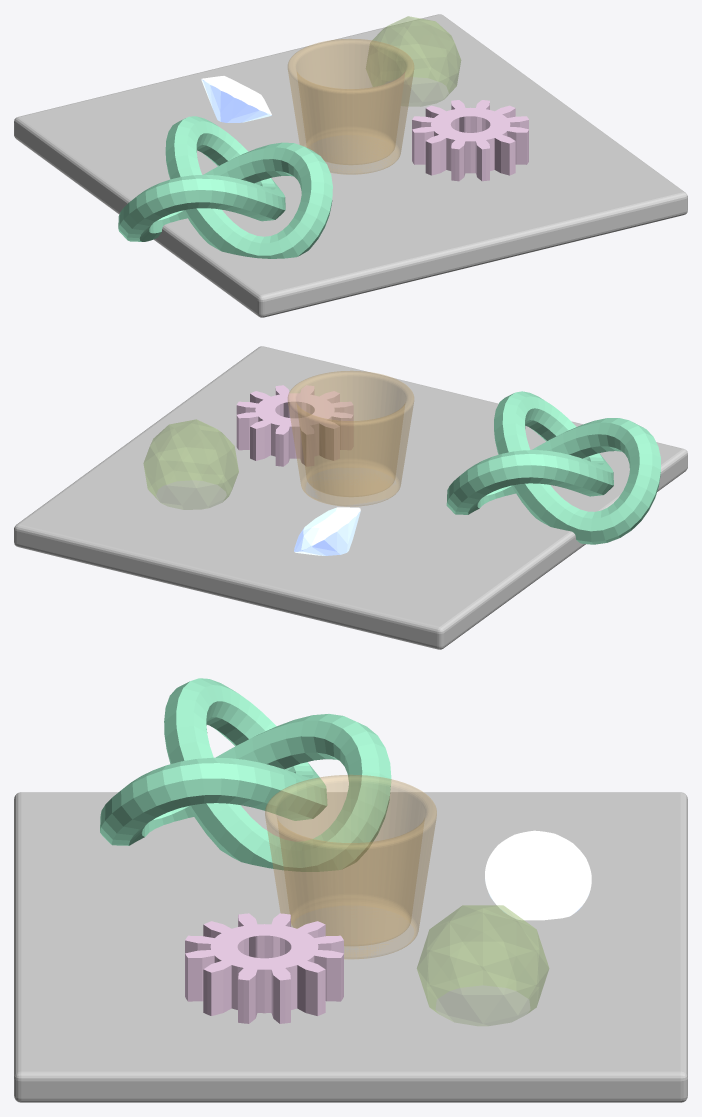
Rendered from cup.glb.
The picture shows the model from 3 angles, top to bottom: view 1: azimuth 30°, elevation 25°; view 2: azimuth 150°, elevation 25°; view 3: azimuth 270°, elevation 25°; orthographic projection. The views are drawn at different scales.
Visible parts, largest first — view 1: Plane, TorusKnot, Cylinder, Gear, Icosphere, dobj; view 2: Plane, TorusKnot, Cylinder, Gear, Icosphere, dobj; view 3: Plane, TorusKnot, Cylinder, Gear, Icosphere, dobj.
Boxes of the visible parts, left/top/right/bottom form: Plane: left=14, top=14, right=687, bottom=317; TorusKnot: left=118, top=116, right=332, bottom=258; Cylinder: left=288, top=39, right=413, bottom=174; Gear: left=412, top=100, right=528, bottom=181; Icosphere: left=366, top=16, right=460, bottom=106; dobj: left=201, top=76, right=271, bottom=122; Plane: left=14, top=346, right=687, bottom=649; TorusKnot: left=446, top=391, right=660, bottom=544; Cylinder: left=288, top=371, right=413, bottom=506; Gear: left=236, top=385, right=353, bottom=466; Icosphere: left=143, top=419, right=238, bottom=509; dobj: left=294, top=507, right=360, bottom=555; Plane: left=14, top=792, right=687, bottom=1102; TorusKnot: left=100, top=678, right=391, bottom=871; Cylinder: left=265, top=775, right=436, bottom=958; Gear: left=185, top=913, right=343, bottom=1023; Icosphere: left=417, top=905, right=548, bottom=1025; dobj: left=485, top=830, right=591, bottom=920.
Bounding box in the file's own units: 5.59 × 1.25 × 5.
